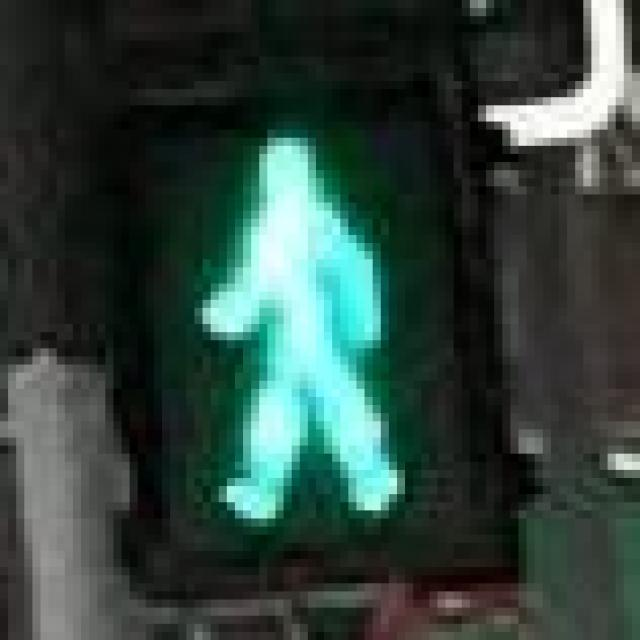green-light: (107, 98, 512, 528)
